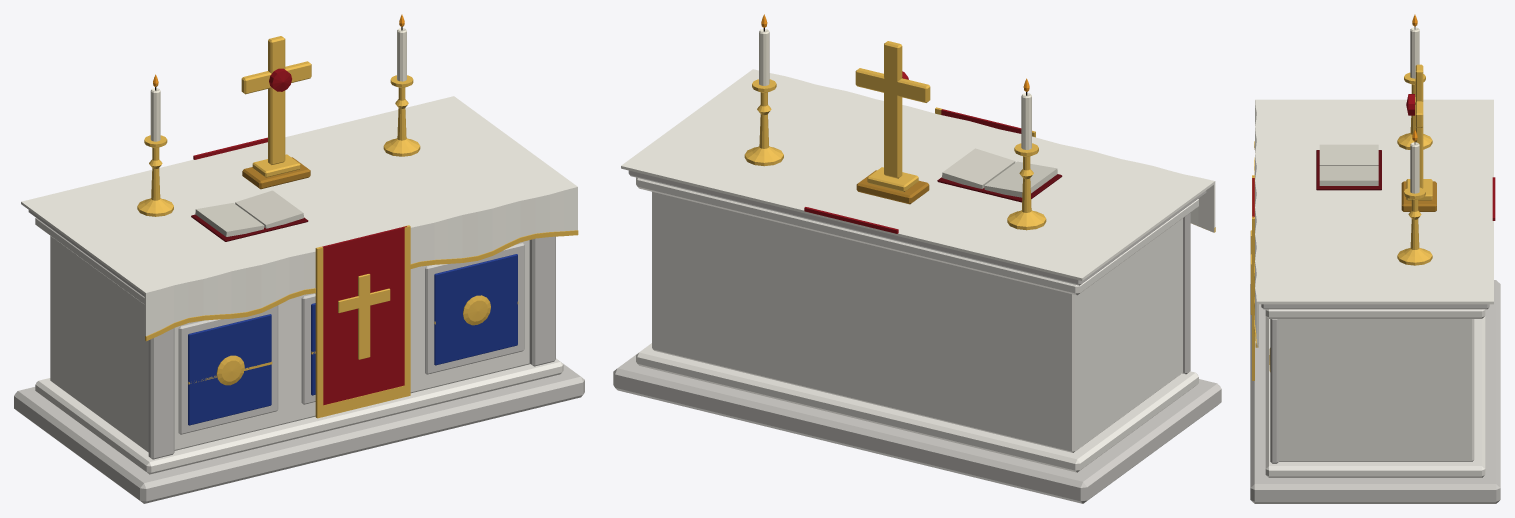
File: altar.obj
3 views of the same model, side by side, from view 1: azimuth 30°, elevation 25°; view 2: azimuth 150°, elevation 25°; view 3: azimuth 270°, elevation 25° (orthographic). The views are drawn at different scales.
Parts seen in each view (by area): view 1: box.016, box.002, box, slab, slab.002, box.001, box.010, box.004, box.013, box.012, box.003, box.009 (+17 smaller); view 2: box.002, box.016, box, box.001, box.014, box.015, box.022, box.028, lathe.008, lathe.004, box.027, slab (+4 smaller); view 3: box.016, box.002, box, box.001, box.014, box.015, box.027, box.013, box.028, lathe.008, slab, box.022 (+6 smaller).
Part boxes in pixels (box(x1,y1,x2,y2)): box.016: box(21, 96, 576, 294); box.002: box(50, 236, 529, 452); box: box(14, 360, 584, 503); slab: box(144, 186, 577, 339); slab.002: box(322, 226, 406, 405); box.001: box(35, 358, 563, 474); box.010: box(434, 254, 517, 365); box.004: box(188, 314, 271, 425); box.013: box(529, 236, 555, 366); box.012: box(148, 328, 174, 459); box.003: box(178, 305, 278, 434); box.009: box(425, 243, 524, 374); box.002: box(652, 192, 1182, 452); box.016: box(621, 69, 1213, 280); box: box(613, 343, 1221, 503); box.001: box(636, 343, 1198, 472); box.014: box(636, 177, 1198, 295); box.015: box(628, 170, 1206, 285); box.022: box(884, 41, 902, 178); box.028: box(942, 148, 1015, 188); lathe.008: box(744, 79, 783, 166); lathe.004: box(1007, 143, 1046, 230); box.027: box(984, 161, 1057, 197); slab: box(755, 69, 1215, 232); box.016: box(1257, 99, 1493, 304); box.002: box(1279, 319, 1474, 461); box: box(1250, 280, 1500, 503); box.001: box(1265, 316, 1485, 477); box.014: box(1265, 309, 1485, 318); box.015: box(1261, 304, 1489, 309); box.027: box(1319, 144, 1378, 165); box.013: box(1270, 319, 1278, 463); box.028: box(1319, 166, 1378, 185); lathe.008: box(1397, 187, 1432, 265); slab: box(1255, 99, 1258, 347); box.022: box(1415, 64, 1423, 188).
Bounding box in the file's own units: 2.24 × 1.68 × 1.14.
